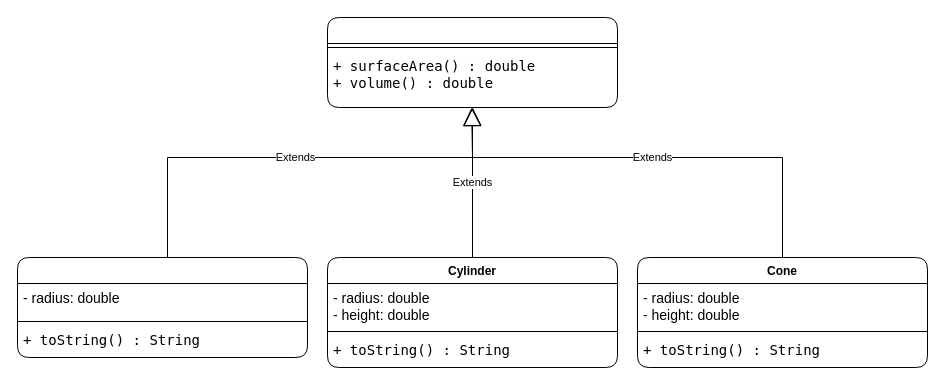
The diagram is 945 pixels wide and 388 high, and some of its shapes have lost their labels. The box of each missing label's shape, as (x1, y1, x2, y2) in pixels:
Shape: (326, 16, 618, 108)
Sphere: (16, 256, 308, 358)
